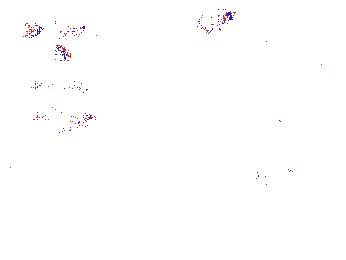X-ray fish: (246, 159, 292, 189), (271, 117, 291, 136)
red belly glassfish: (54, 45, 72, 64)
redtail glassfish: (31, 72, 93, 99), (36, 106, 99, 132), (30, 21, 92, 40), (192, 7, 236, 33)
